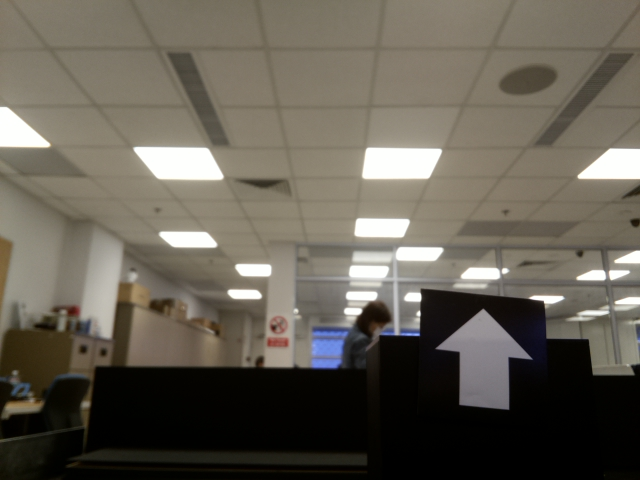up: (432, 298, 535, 413)
